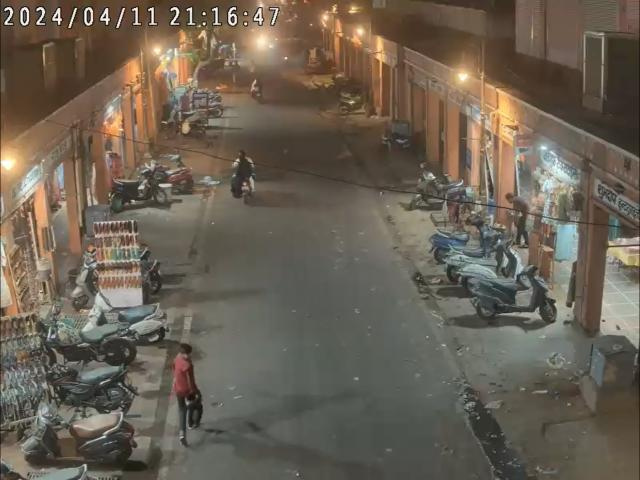helmet: (238, 150, 250, 162)
motorbike: (38, 348, 134, 408), (36, 311, 140, 362)
motorbike-rider: (230, 152, 260, 202)
person: (168, 338, 203, 439), (506, 192, 532, 248)
scooty: (22, 400, 137, 467), (83, 286, 165, 344), (474, 270, 558, 324), (426, 220, 506, 256), (460, 252, 532, 289), (113, 166, 169, 203)
scooty-rider: (168, 7, 180, 24), (34, 7, 45, 24)
